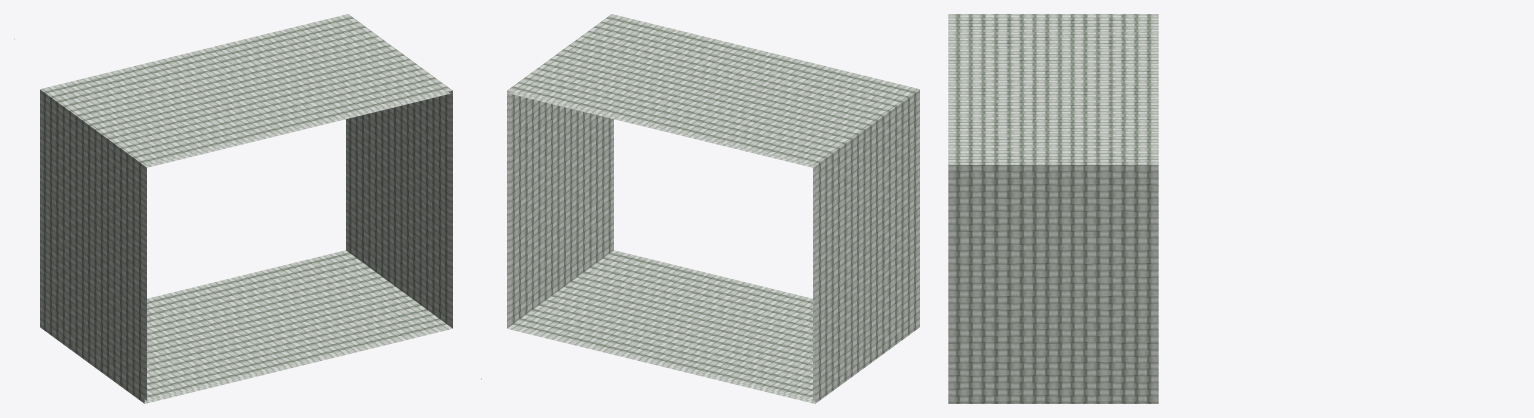
File: MeshDeskLamp_4_0_GeomSubset_2.obj
3 renders of one model, left to right at view 1: azimuth 30°, elevation 25°; view 2: azimuth 150°, elevation 25°; view 3: azimuth 270°, elevation 25°, orthographic.
Parts seen in each view (by area): view 1: MeshDeskLamp_4_0_GeomSubset_2; view 2: MeshDeskLamp_4_0_GeomSubset_2; view 3: MeshDeskLamp_4_0_GeomSubset_2.
Boxes of the visible parts, x1,y1,x2,y2 form: MeshDeskLamp_4_0_GeomSubset_2: [14, 14, 452, 403]; MeshDeskLamp_4_0_GeomSubset_2: [481, 14, 919, 403]; MeshDeskLamp_4_0_GeomSubset_2: [948, 14, 1158, 403].
Size of the model in its own units: 0.2155 by 0.1591 by 0.3445.
1 material, 1 textured.
